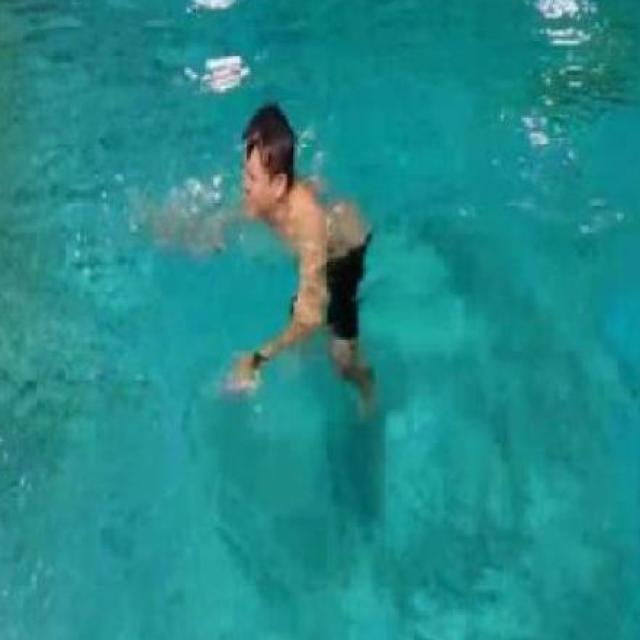Swimming: (214, 100, 386, 412)
